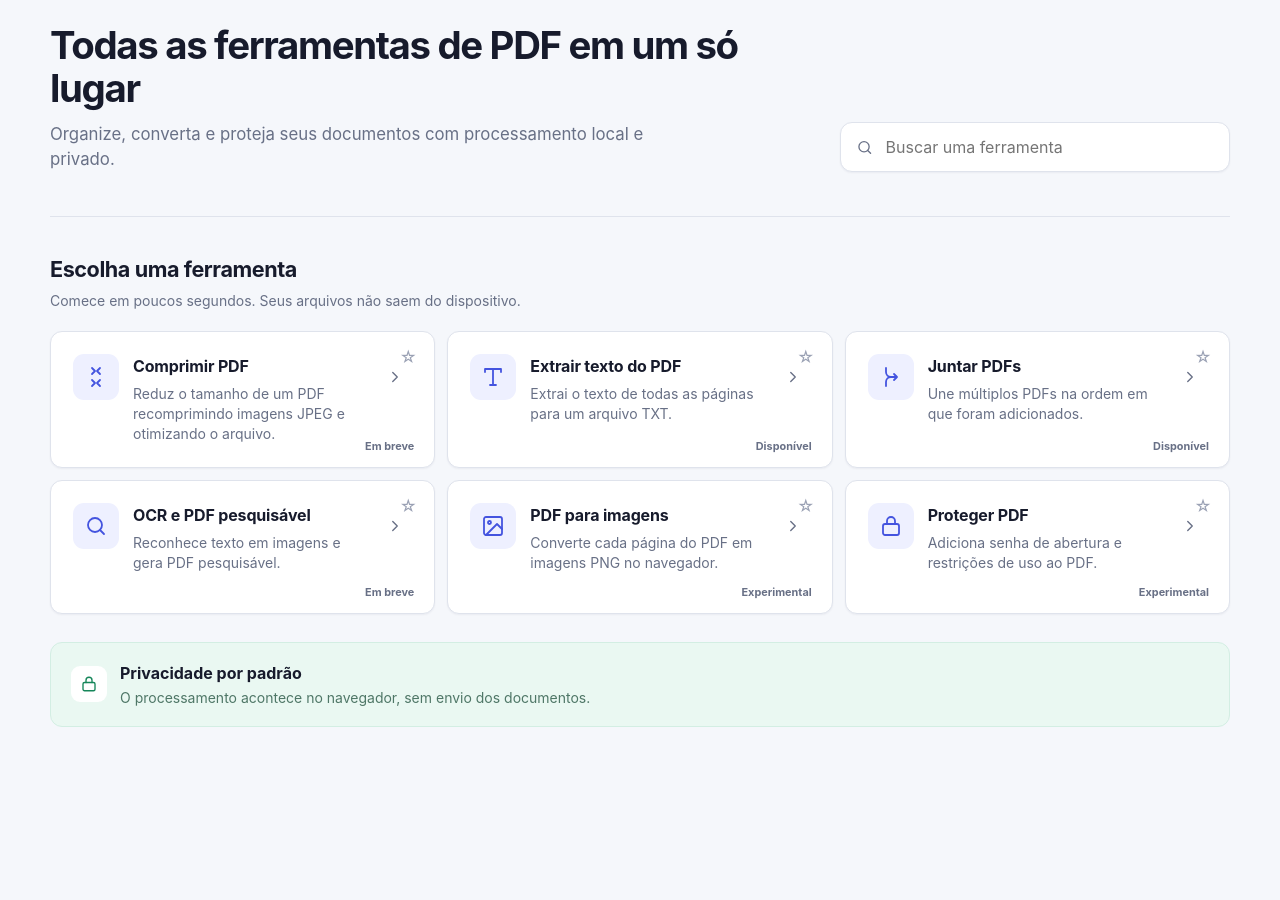
it: HomeView › filtra pelo texto da busca (por título e descrição)
This screenshot has width=1280, height=900.
Type "ocr" into the search field named "Buscar ferramenta".
click(1049, 147); type("ocr")  # box [884,134,1214,160]
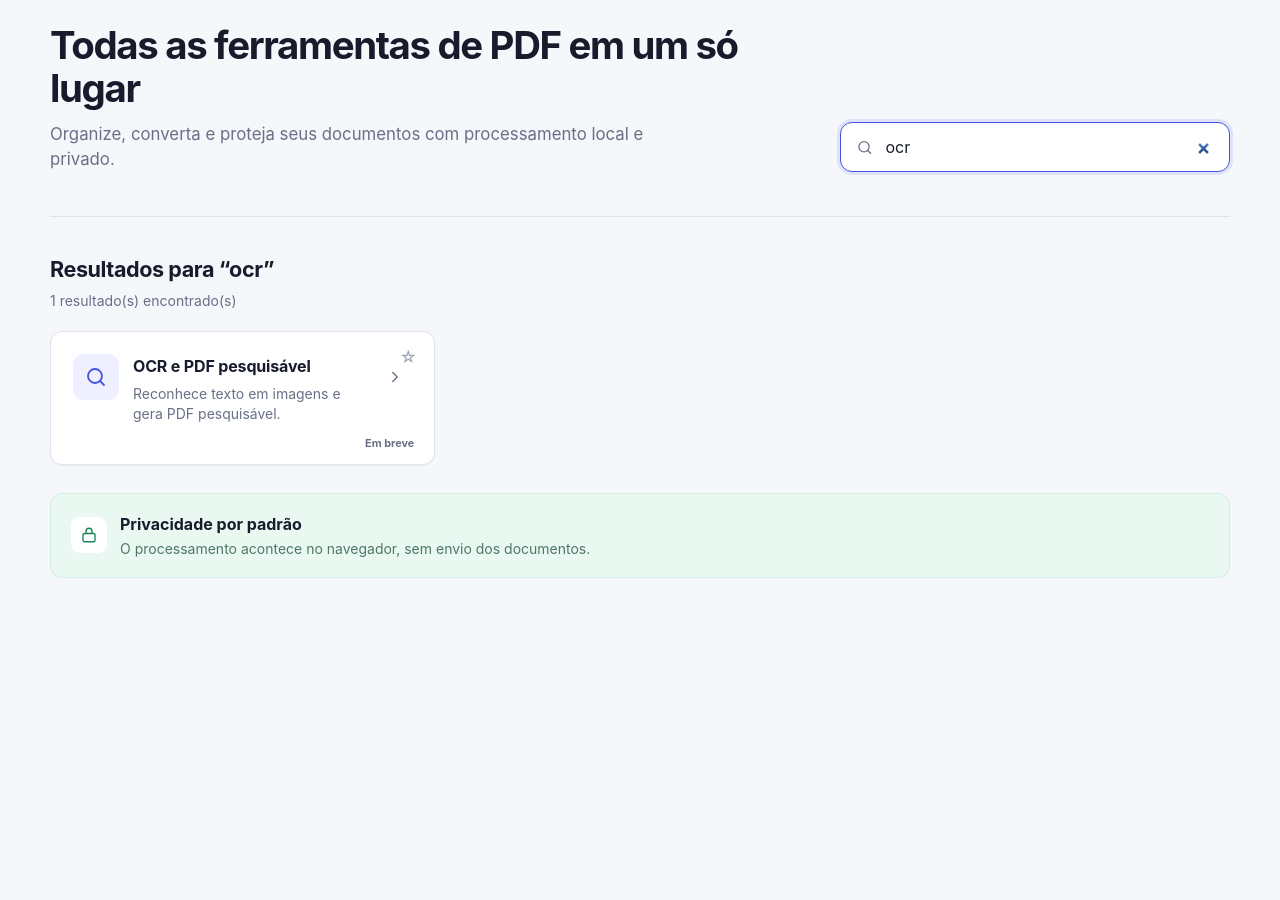
Expected: the button "OCR e PDF pesquisável" is shown, [51,332,434,464]
Expected: the button "Juntar PDFs" is gone
